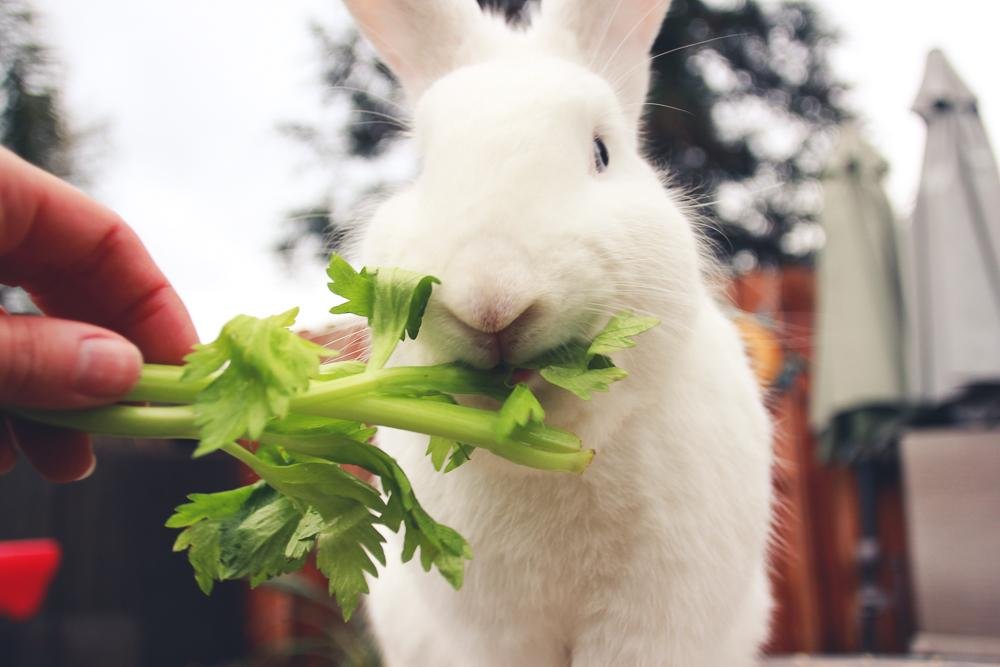bunny: (268, 2, 814, 667)
